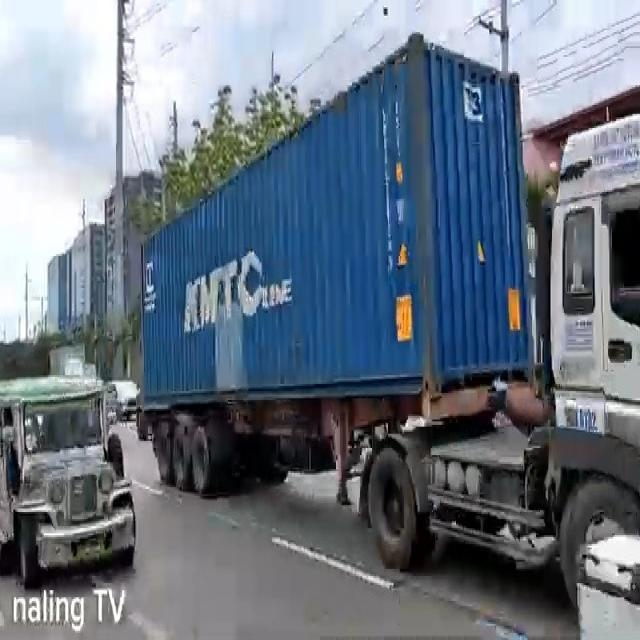jeepney: (0, 371, 136, 586)
truck: (140, 29, 640, 613)
